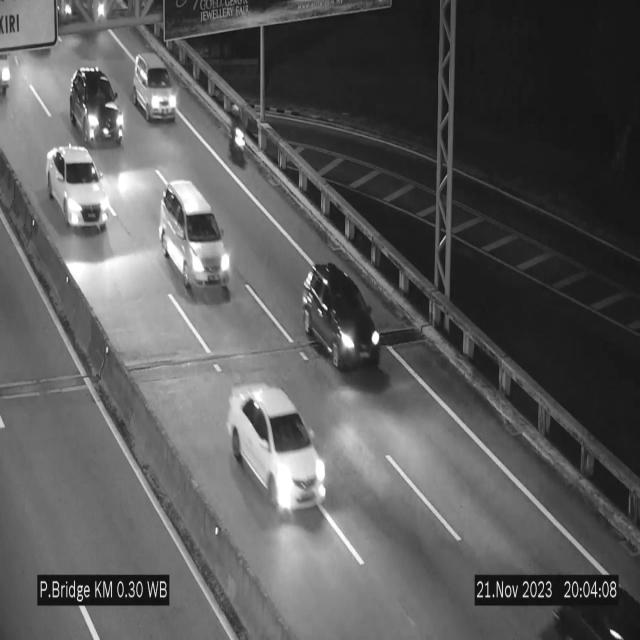Car: (228, 385, 326, 515), (300, 260, 386, 380), (159, 181, 231, 298), (67, 65, 129, 147), (47, 146, 105, 228), (133, 52, 177, 121)
Motorcycle: (229, 100, 248, 178)
